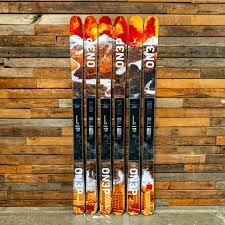skis: (126, 15, 159, 219), (68, 15, 99, 216), (97, 15, 127, 216)
